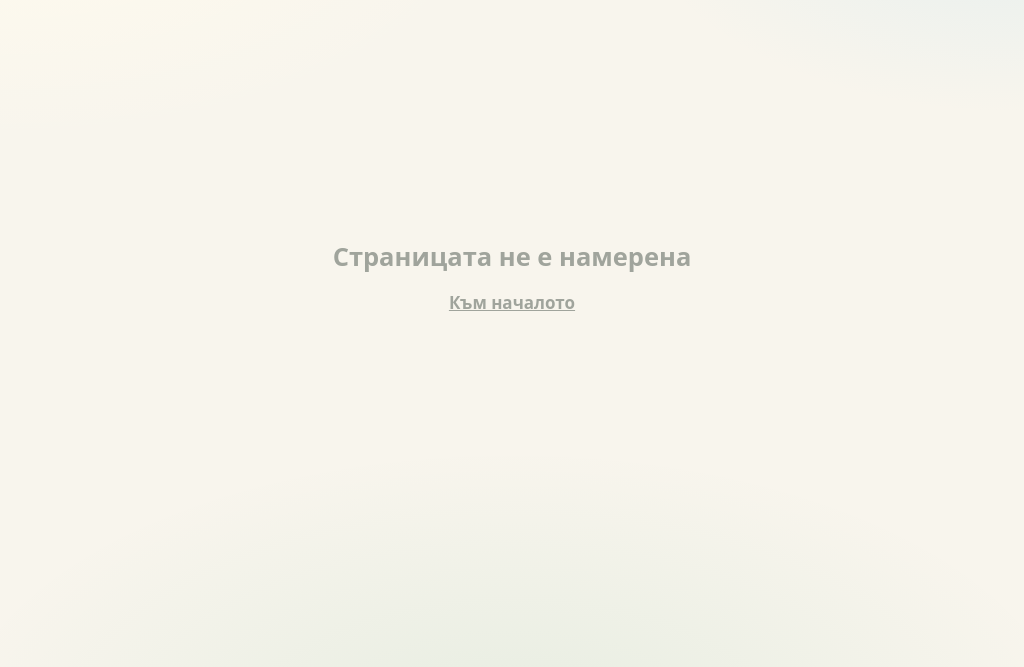
hub navigation › unknown topics and routes fall back safely
The width and height of the screenshot is (1024, 667).
Later steps or results of the test are not shown.
Expected: the heading "Страницата не е намерена" is shown, [333, 239, 691, 273]
Click the link "Към началото" at point(512, 303), box [449, 291, 575, 314]
(page scrolled)
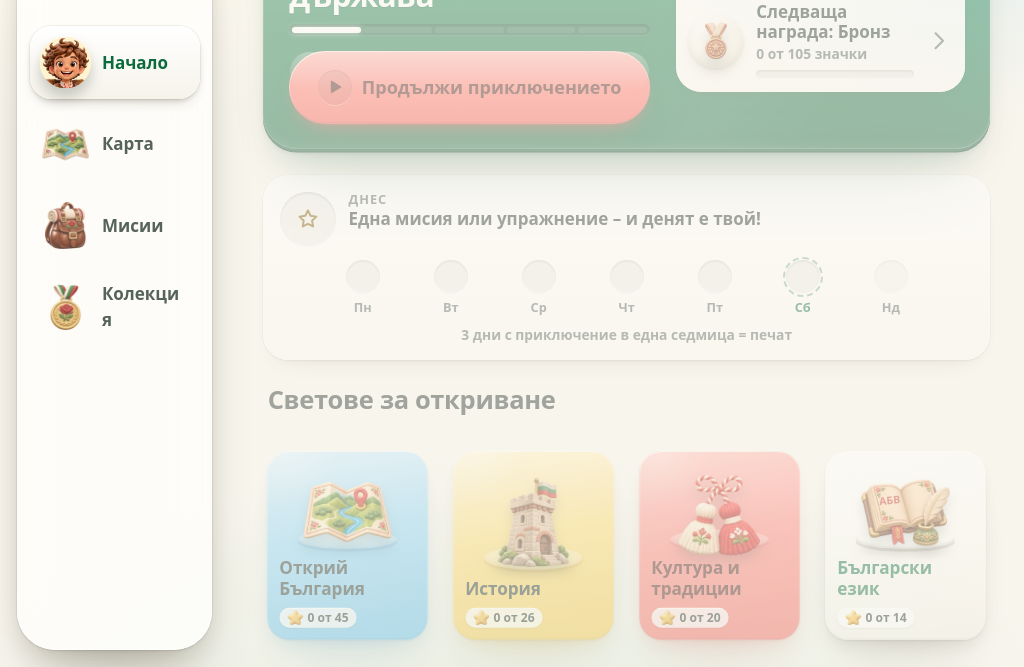
Now the link "Открий България 0 от 45" is shown, box [268, 451, 428, 640]
